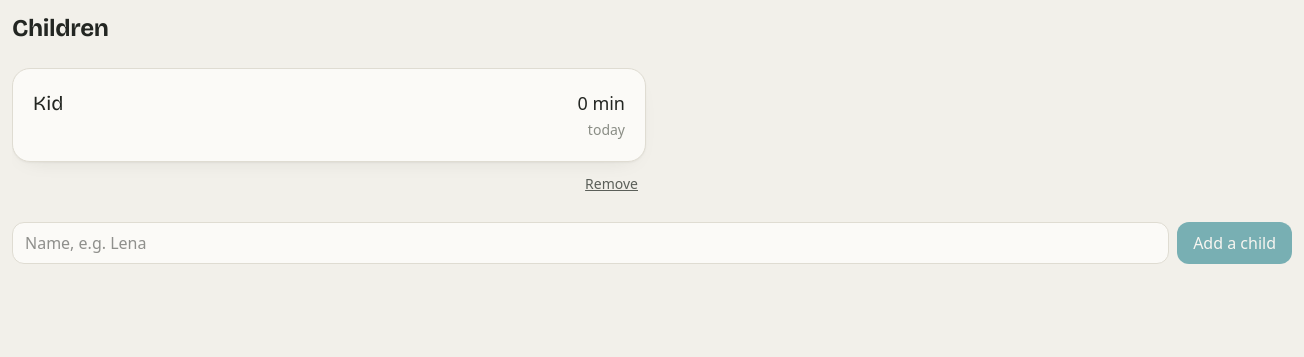
Test: Children › leaves the child alone when the confirmation is cancelled
The image size is (1304, 357).
Expected: the text "Kid" is shown, [33,89,63,117]
Click the button "Remove": (612,184) [577,170,646,198]
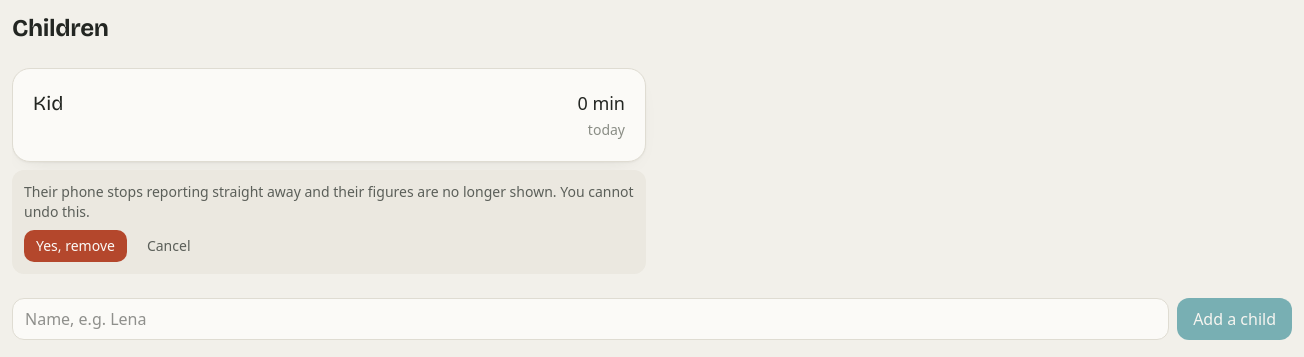
Click the button "Cancel": (169,246) [135,230,202,262]
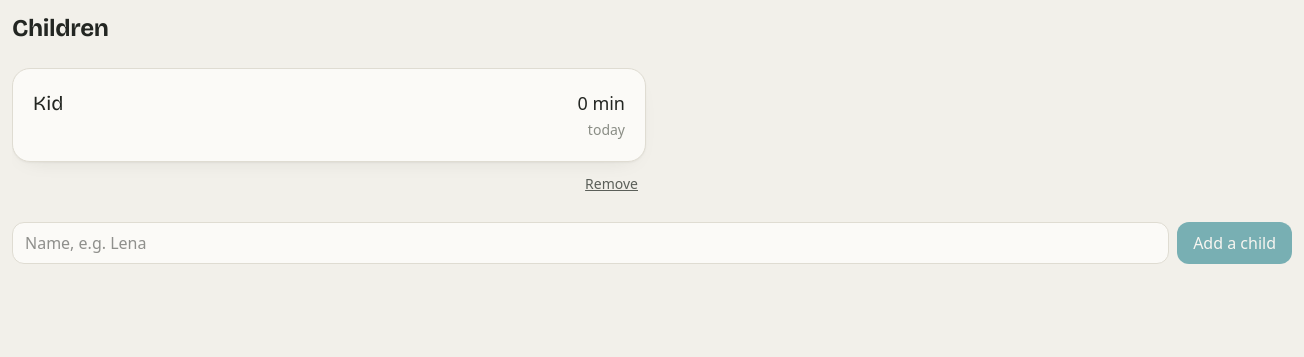
Expected: the text "Kid" is shown, [33,89,63,117]
Expected: the text "Their phone stops reporting straight away and their figures are no longer shown. You cannot undo this." is gone
